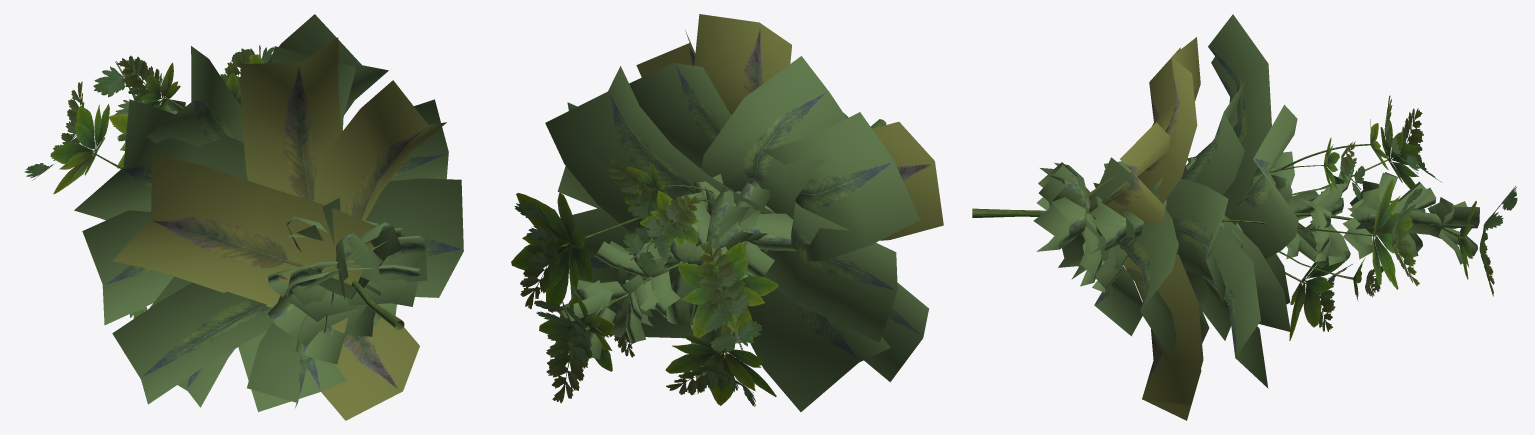
Rendered from plant2.FBX.
The picture shows the model from 3 angles, left to right: view 1: azimuth 30°, elevation 25°; view 2: azimuth 150°, elevation 25°; view 3: azimuth 270°, elevation 25°; orthographic projection. The views are drawn at different scales.
Parts seen in each view (by area): view 1: plant2_LOD0; view 2: plant2_LOD0; view 3: plant2_LOD0.
Part boxes in pixels (x1,y1,x2,y2): plant2_LOD0: (24,14,463,420); plant2_LOD0: (511,14,943,411); plant2_LOD0: (972,14,1517,420).
Size of the model in its own units: 132 by 188 by 133.
